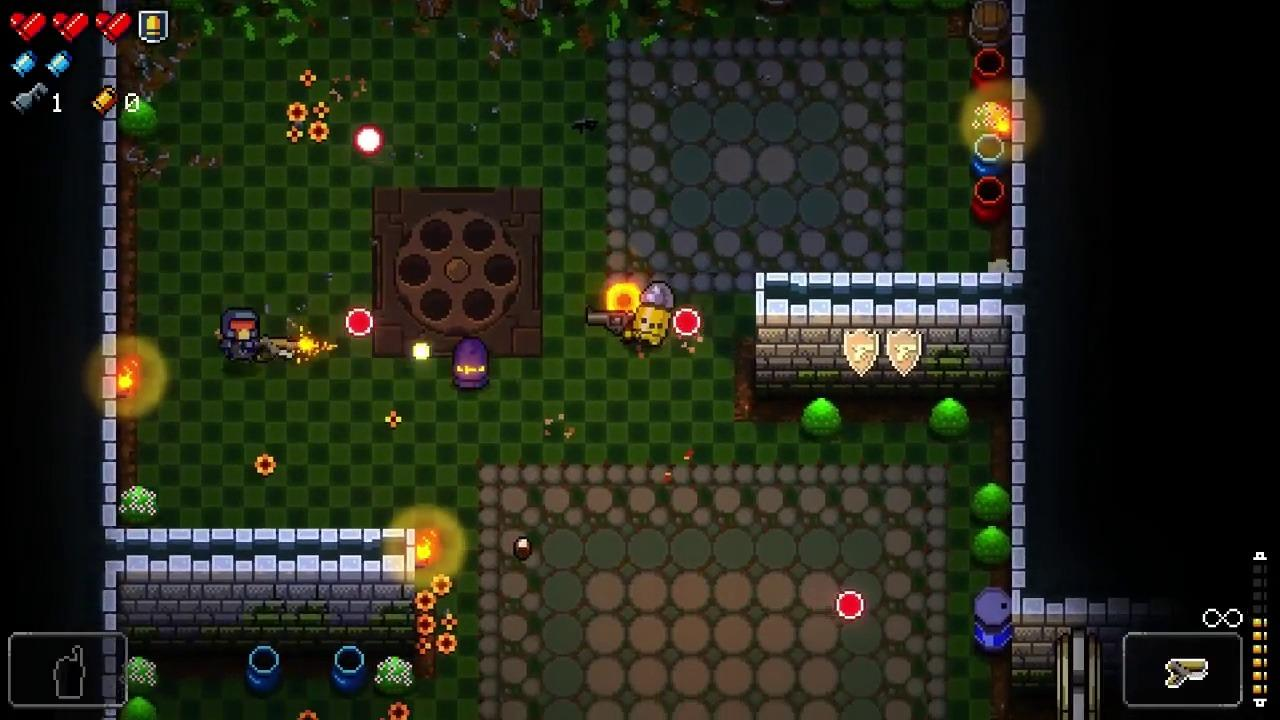bullet: (352, 123, 382, 154)
bullet_kin: (634, 278, 674, 346)
hollow_bullet: (835, 589, 865, 621), (672, 308, 702, 337), (345, 308, 374, 337)
locked_door: (1058, 625, 1102, 720)
player: (219, 309, 260, 364)
rubber_kin: (451, 335, 492, 392)
teleporter: (370, 186, 542, 357)
